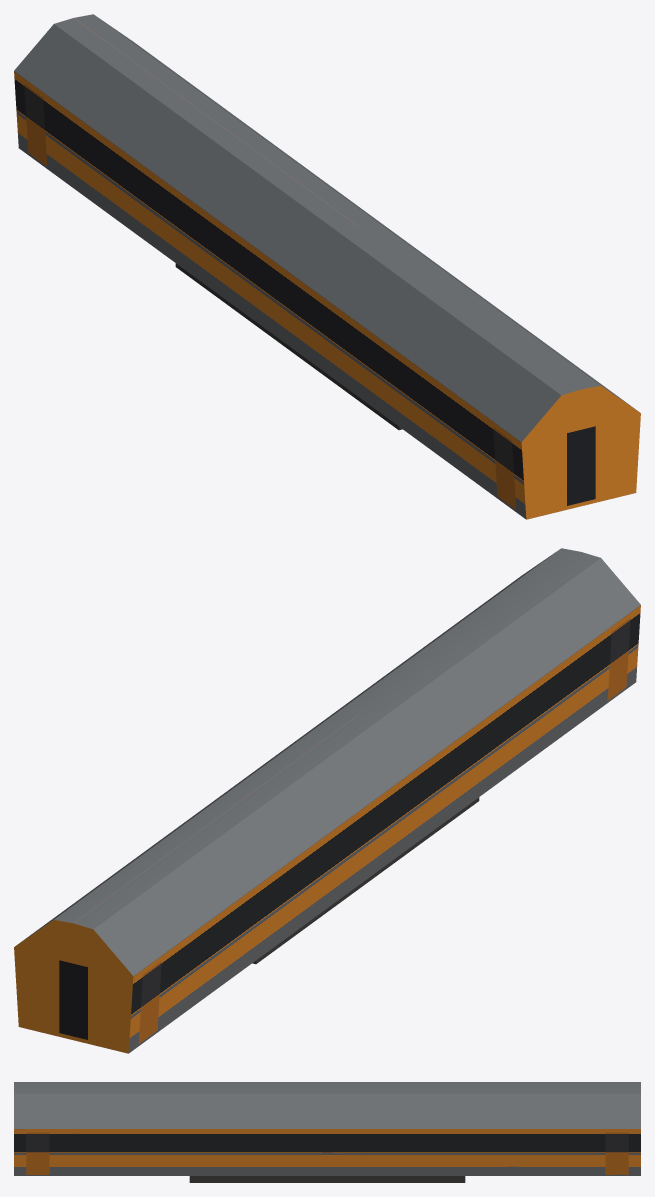
The model's file is vb_coach_lod2.glb.
3 views of the same model, one above another, from view 1: azimuth 30°, elevation 25°; view 2: azimuth 150°, elevation 25°; view 3: azimuth 270°, elevation 25° (orthographic). The views are drawn at different scales.
Visible parts, largest first — view 1: body; view 2: body; view 3: body.
Part boxes in pixels (x1,y1,x2,y2): body: (14,14,640,519); body: (14,548,640,1053); body: (14,1082,640,1182).
Size of the model in its own units: 3.26 by 3.53 by 24.
2 materials, 2 textured.
